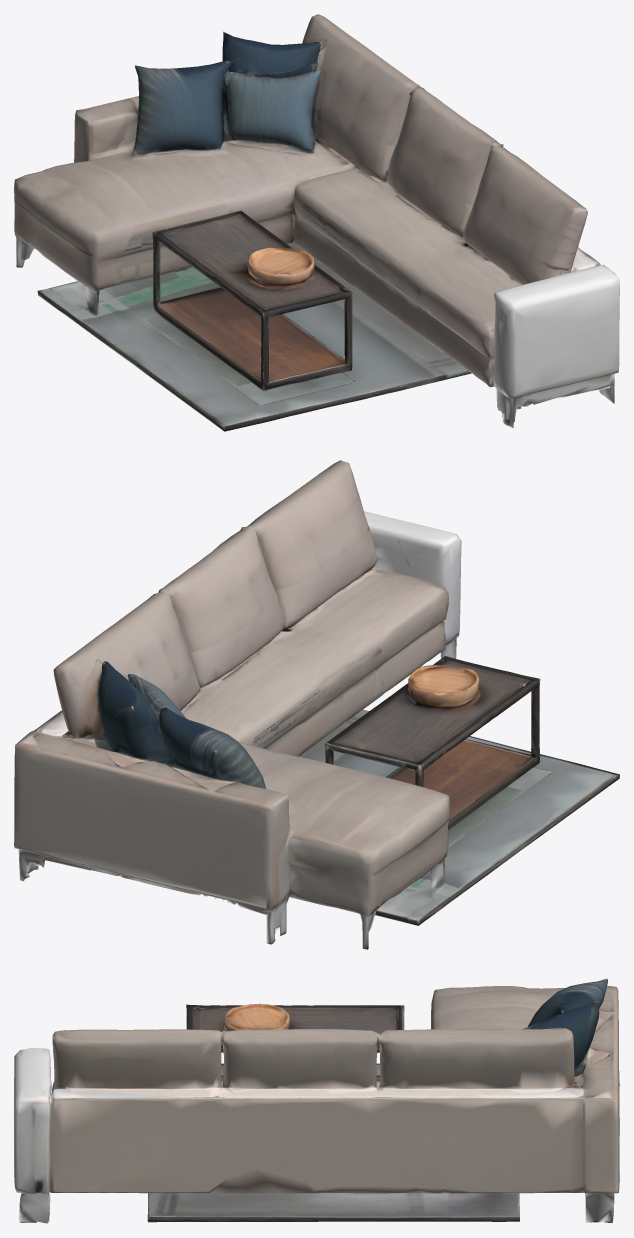
The model's file is patio-1.glb.
The picture shows the model from 3 angles, top to bottom: view 1: azimuth 30°, elevation 25°; view 2: azimuth 150°, elevation 25°; view 3: azimuth 270°, elevation 25°; orthographic projection. The views are drawn at different scales.
Size of the model in its own units: 1.2 by 0.6688 by 1.97.
Materials: 1 (1 with a texture image).
